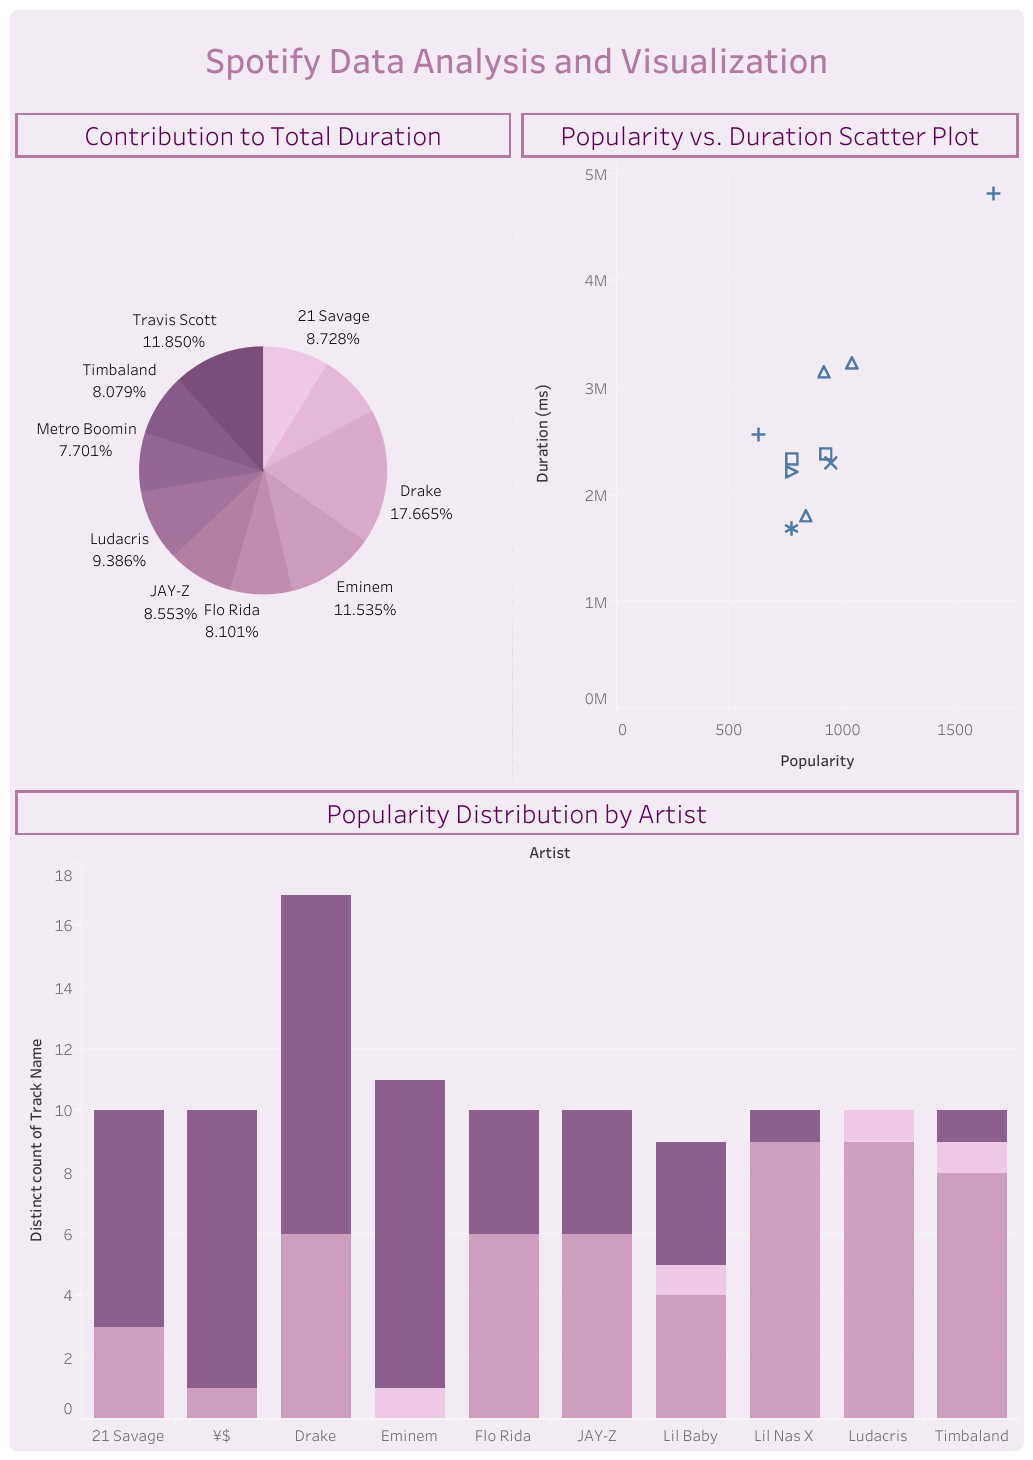

What the dashboard file says about the page in this screenshot:
{"tool":"tableau","page":{"name":"Dashboard 1","canvas":[827,1169],"ordinal":0},"visuals":[{"type":"text","box":[8,8,811,78]},{"type":"worksheet","title":"Contribution to Total Duration","mark":"Pie","box":[8,86,405.5,542.5]},{"type":"worksheet","title":"Popularity vs. Duration Scatter Plot","mark":"Automatic","rows":["Duration (ms)"],"cols":["Popularity"],"box":[413.5,86,405.5,542.5]},{"type":"worksheet","title":"Popularity Distribution by Artist","mark":"Automatic","rows":["Track Name"],"cols":["Artist"],"box":[8,628.5,811,532.5]}]}

Visuals, with their boxes in screenshot pixels (x1, y1, x2, y2), scaled from the page's 827x1169 canvas onto the 1033x1460 screenshot:
text: bbox=[10, 10, 1023, 107]
"Contribution to Total Duration" worksheet (Pie marks): bbox=[10, 107, 516, 785]
"Popularity vs. Duration Scatter Plot" worksheet: bbox=[516, 107, 1023, 785]
"Popularity Distribution by Artist" worksheet: bbox=[10, 785, 1023, 1450]
